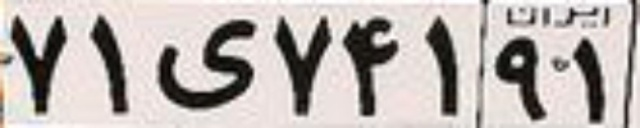1: (83, 13, 130, 114), (423, 16, 461, 117), (570, 36, 606, 122)
4: (340, 16, 403, 117)
7: (270, 14, 335, 116), (8, 13, 71, 117)
9: (491, 35, 546, 120)
he: (155, 19, 263, 110)
